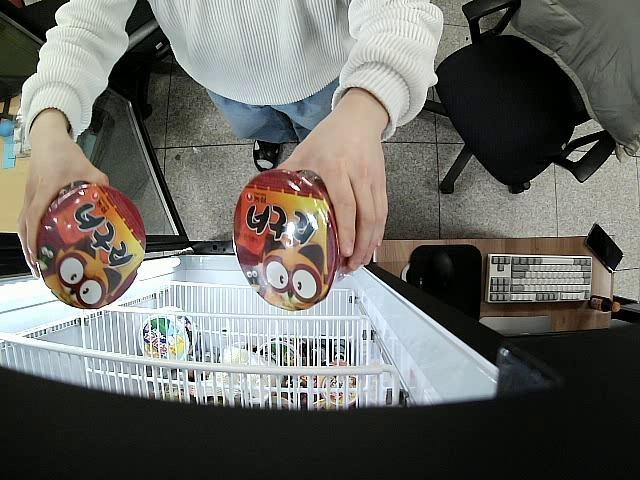05_nuguri_L: (231, 168, 340, 311), (37, 181, 146, 308)
